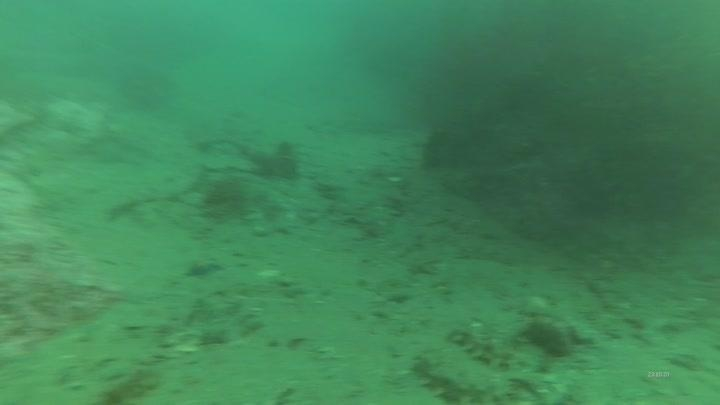holothurian: (409, 350, 509, 404), (446, 321, 518, 372)
starfish: (181, 256, 225, 281)
